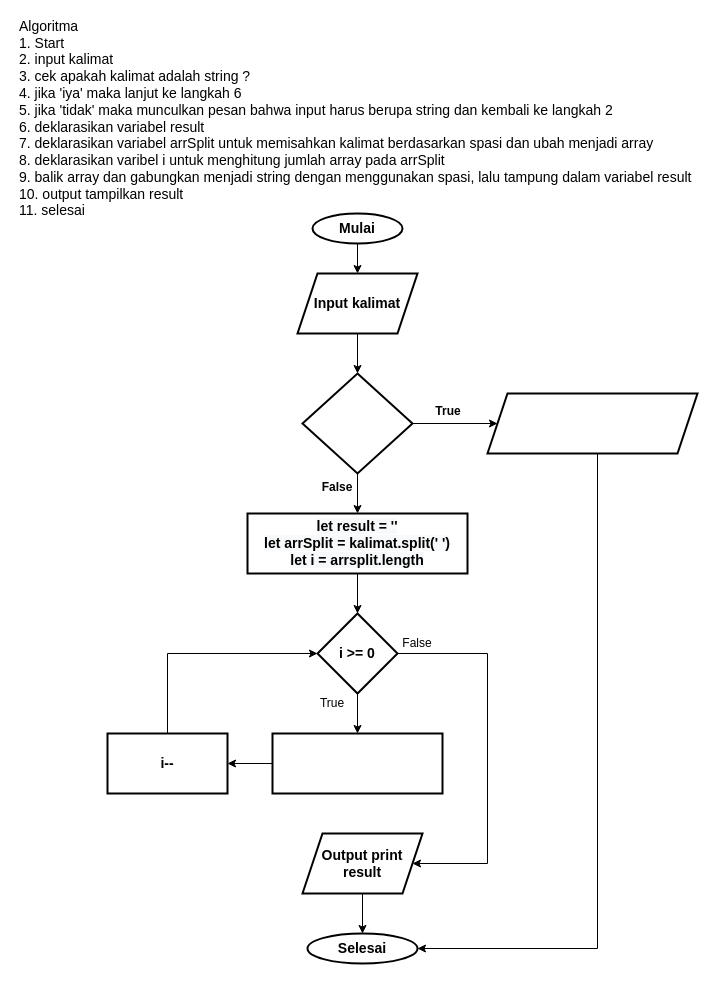
This 715x981 diagram has some shape labels left out. Each missing label, with the centre of its shape:
kalimat !== 'string' ?: the point at 357,423
output 'input harus berupa string': the point at 592,423
result += arrSplit[i] + ' ': the point at 357,763
